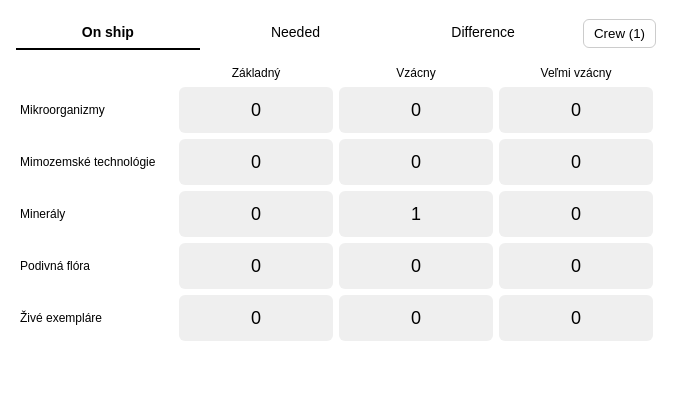
Scenario: ShipPage › shows the difference and per-project shortfall
Click the tab with test id "tab-diff". click: coordinates (483, 33)
box: [391, 16, 575, 50]
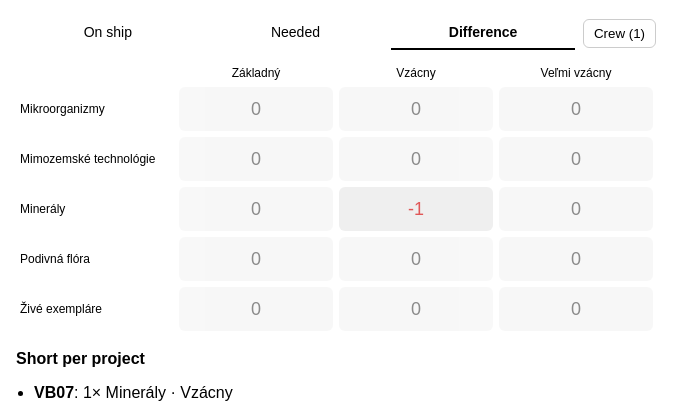
Now the text with test id "cell-minerals-rare" reads "-1", box [408, 199, 424, 219]
Now the list with test id "shortfall-list" shows "VB07", box [34, 384, 74, 401]
Now the list with test id "shortfall-list" shows "1× Minerály · Vzácny", box [74, 384, 233, 401]
